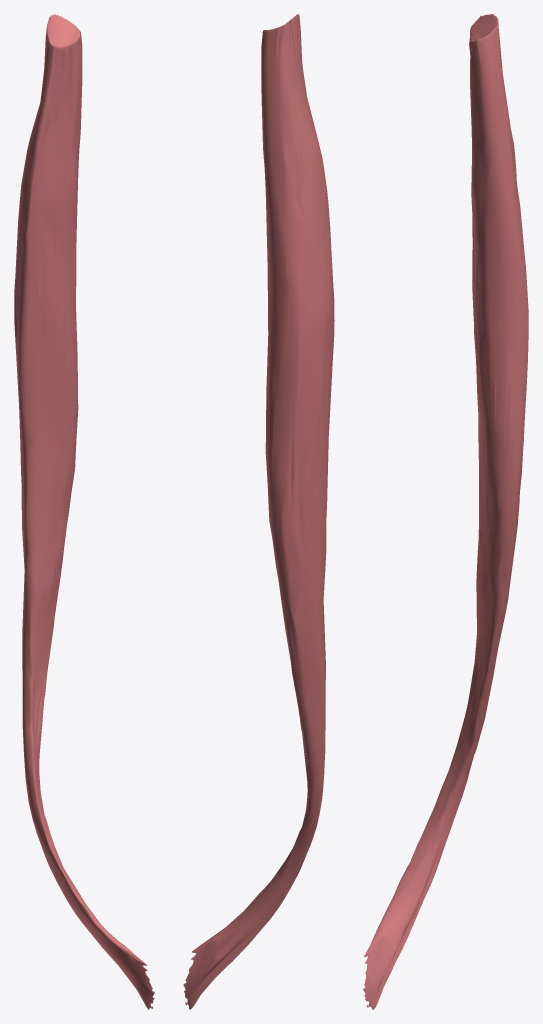
The picture shows the model from 3 angles, left to right: view 1: azimuth 30°, elevation 25°; view 2: azimuth 210°, elevation 25°; view 3: azimuth 270°, elevation 25°; orthographic projection. The views are drawn at different scales.
Parts seen in each view (by area): view 1: FJ1436M; view 2: FJ1436M; view 3: FJ1436M.
Boxes of the visible parts, x1,y1,x2,y2 form: FJ1436M: (14,14,154,1009); FJ1436M: (183,14,334,1009); FJ1436M: (363,14,528,1009).
Bounding box in the file's own units: 0.0411 × 0.478 × 0.0734.
